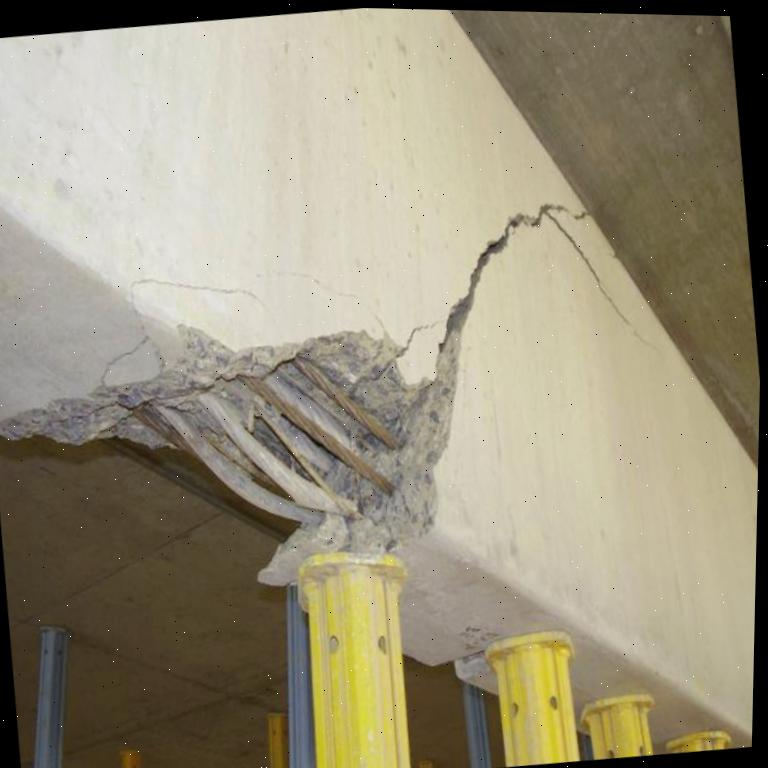exposed_rebar: (133, 403, 326, 522), (198, 392, 338, 512), (248, 379, 392, 492), (295, 358, 397, 448)
spalling: (0, 205, 563, 585)
